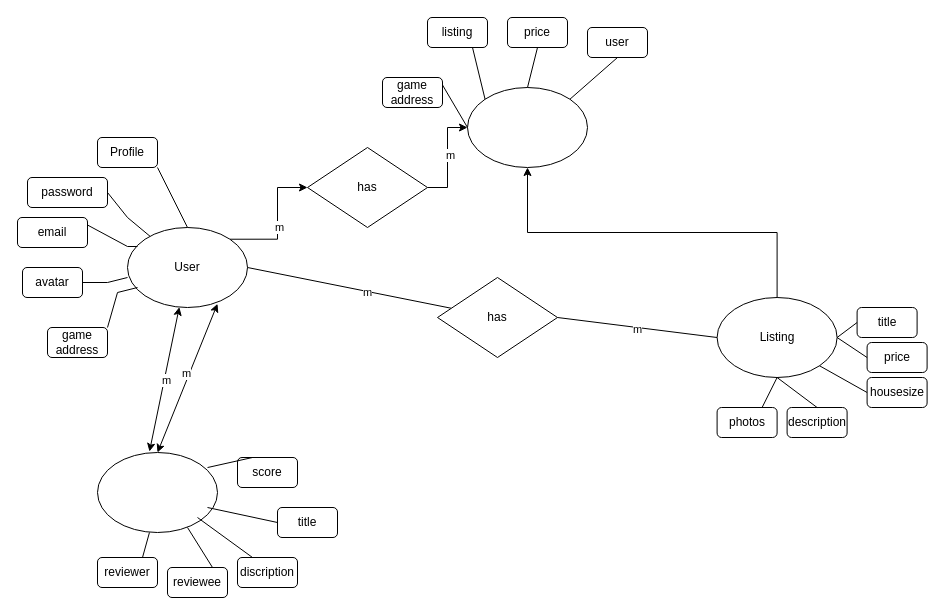
Some shapes in this 945 by 615 pixel diagram are drawn without their labels. The shapes that lost their labels are listed below. From the top down, each one's centre as x and y in pixels, then its label:
At (527,127): "order".
At (157,492): "Review".
